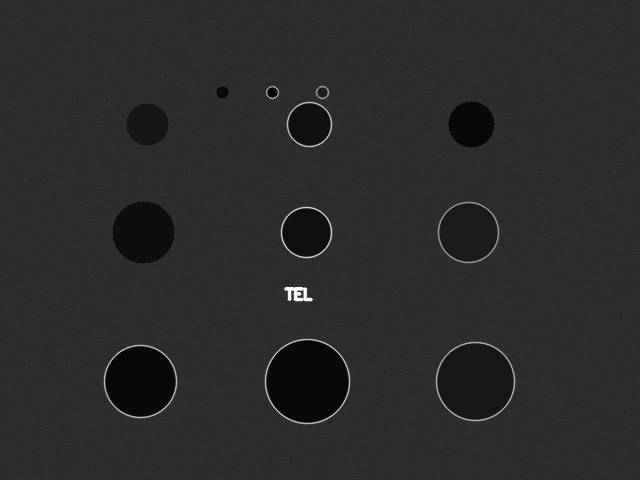hole: (265, 339, 349, 423), (436, 342, 514, 420), (104, 345, 176, 417), (112, 201, 174, 263), (438, 202, 498, 262), (281, 207, 331, 257), (448, 101, 494, 147), (287, 102, 331, 146), (126, 103, 168, 145), (216, 86, 228, 98), (266, 86, 278, 98), (316, 86, 328, 98)
